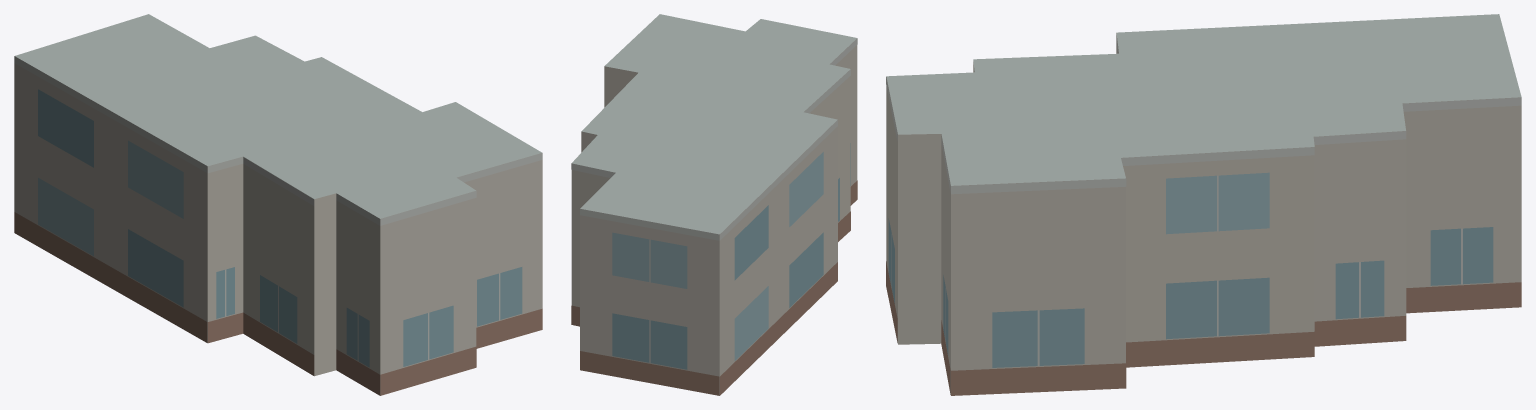
File: survey-upis-32646592.glb
The picture shows the model from 3 angles, left to right: view 1: azimuth 30°, elevation 25°; view 2: azimuth 150°, elevation 25°; view 3: azimuth 270°, elevation 25°; orthographic projection. The views are drawn at different scales.
Visible parts, largest first — view 1: survey-upis-32646592.tmp; view 2: survey-upis-32646592.tmp; view 3: survey-upis-32646592.tmp.
Boxes of the visible parts, x1,y1,x2,y2 form: survey-upis-32646592.tmp: (14, 14, 542, 395); survey-upis-32646592.tmp: (571, 14, 857, 395); survey-upis-32646592.tmp: (886, 14, 1521, 395).
Size of the model in its own units: 10.72 by 6.1 by 16.74.
